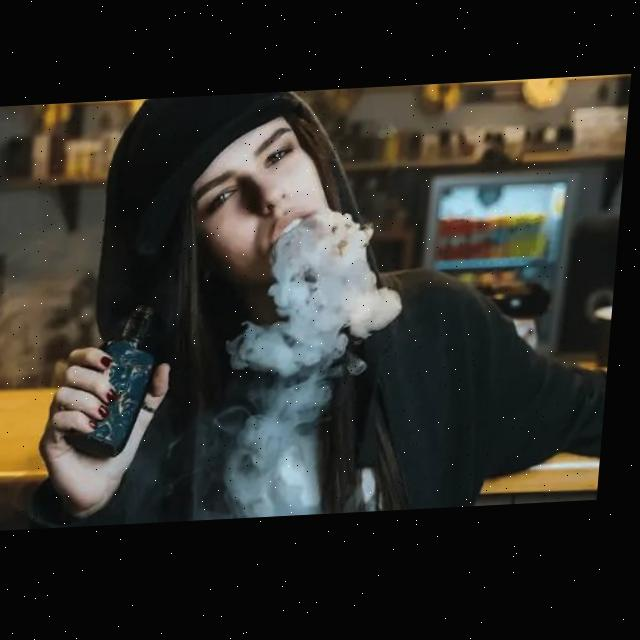vape: (77, 303, 168, 463)
